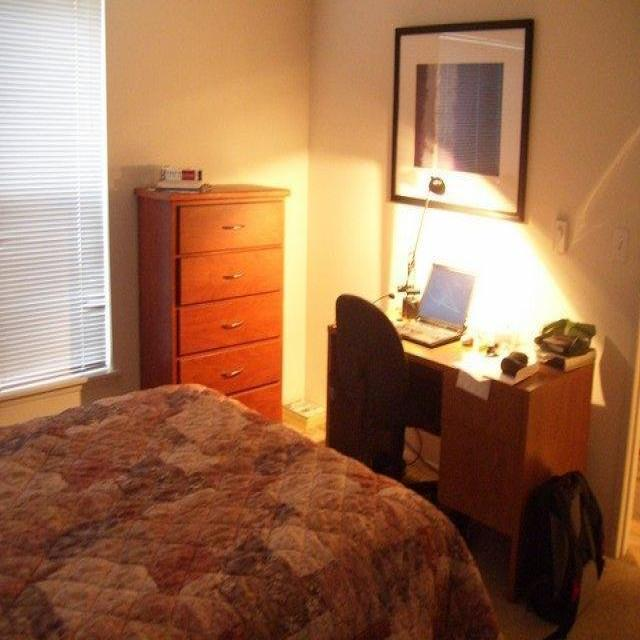cupboard: (134, 181, 289, 424)
curtains: (0, 0, 111, 396)
lamps: (397, 174, 445, 298)
table: (326, 292, 596, 601)
